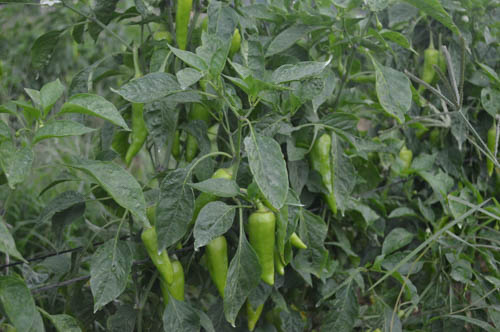ChiliPepper: (126, 80, 154, 164), (312, 137, 342, 215), (191, 167, 232, 223), (268, 193, 309, 248), (252, 212, 275, 282), (205, 234, 229, 300), (143, 228, 169, 280), (187, 97, 207, 161), (161, 257, 186, 307), (417, 48, 441, 95), (243, 288, 264, 330), (174, 4, 189, 48)
